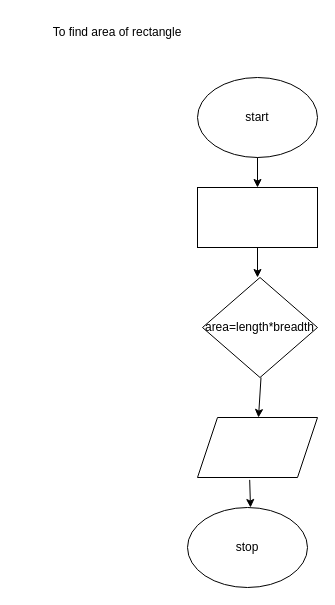
Image size: 335x605. Some labels were removed from this diagram. The box of each missing label's shape, as (x1, y1, x2, y2) in pixels:
print area: (196, 416, 318, 478)
read length and breadth: (196, 186, 318, 248)
